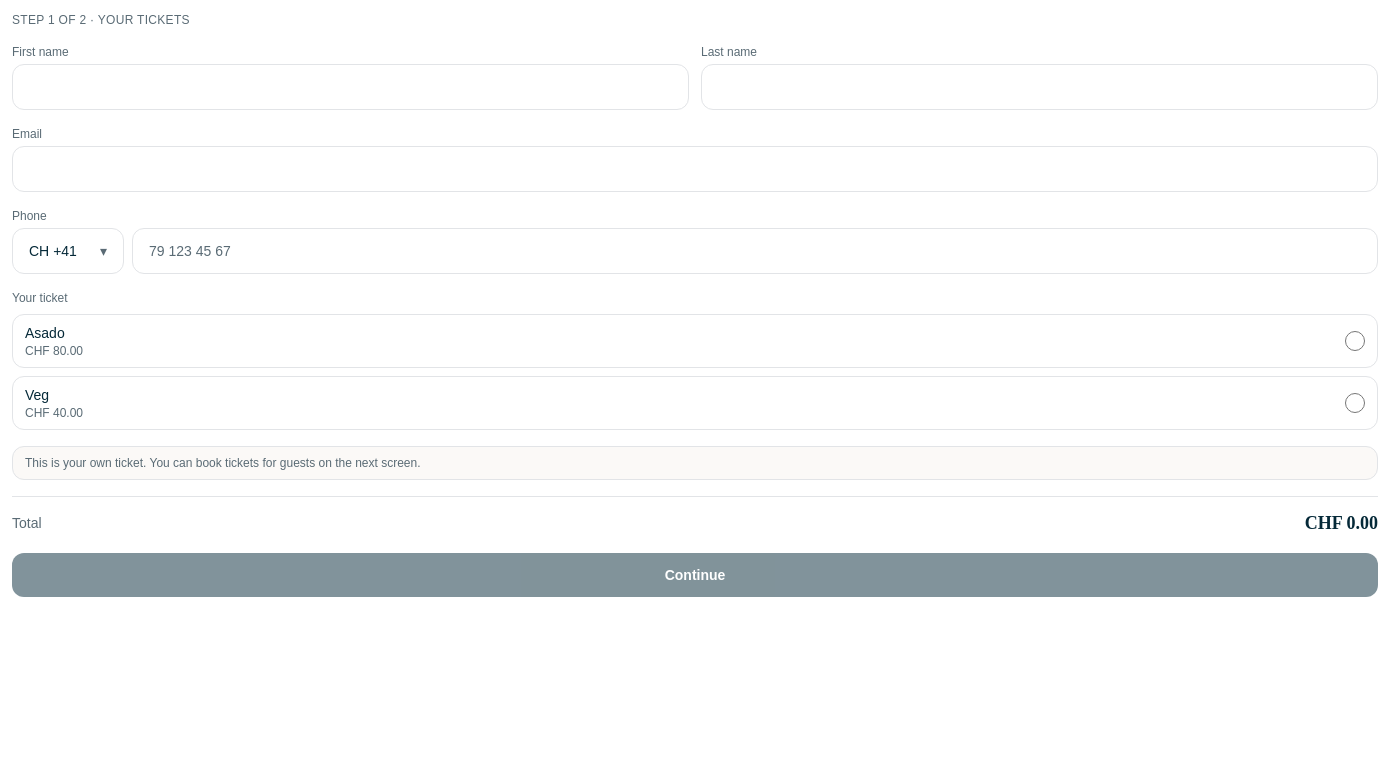
step 1 — the buyer's own tickets › blocks a guest row's first pick once the order cap is reached
The image size is (1390, 780).
Type "Frank" into the field labelled "First name".
click(350, 87); type("Frank")  # box [12,64,689,110]
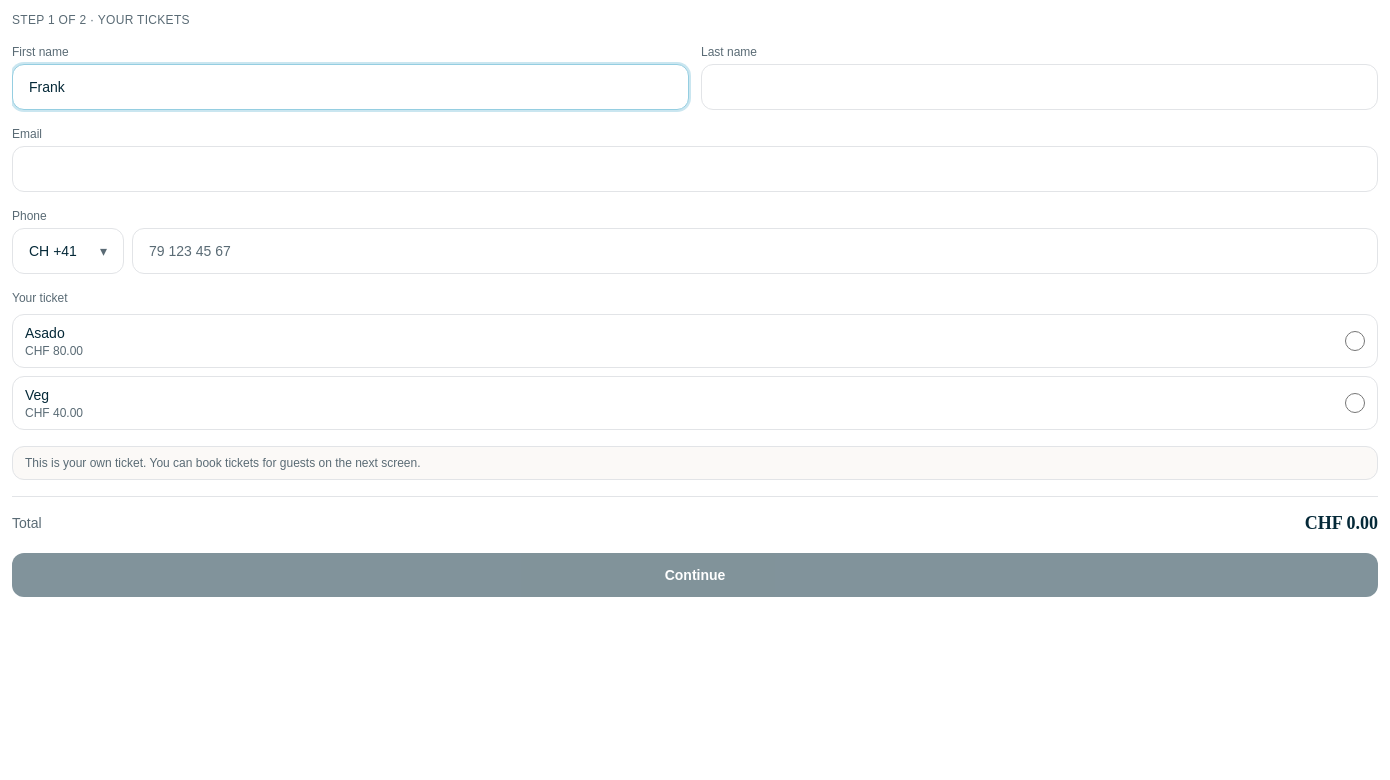
Type "Sykes" into the field labelled "Last name".
click(1040, 87); type("Sykes")  # box [701,64,1378,110]
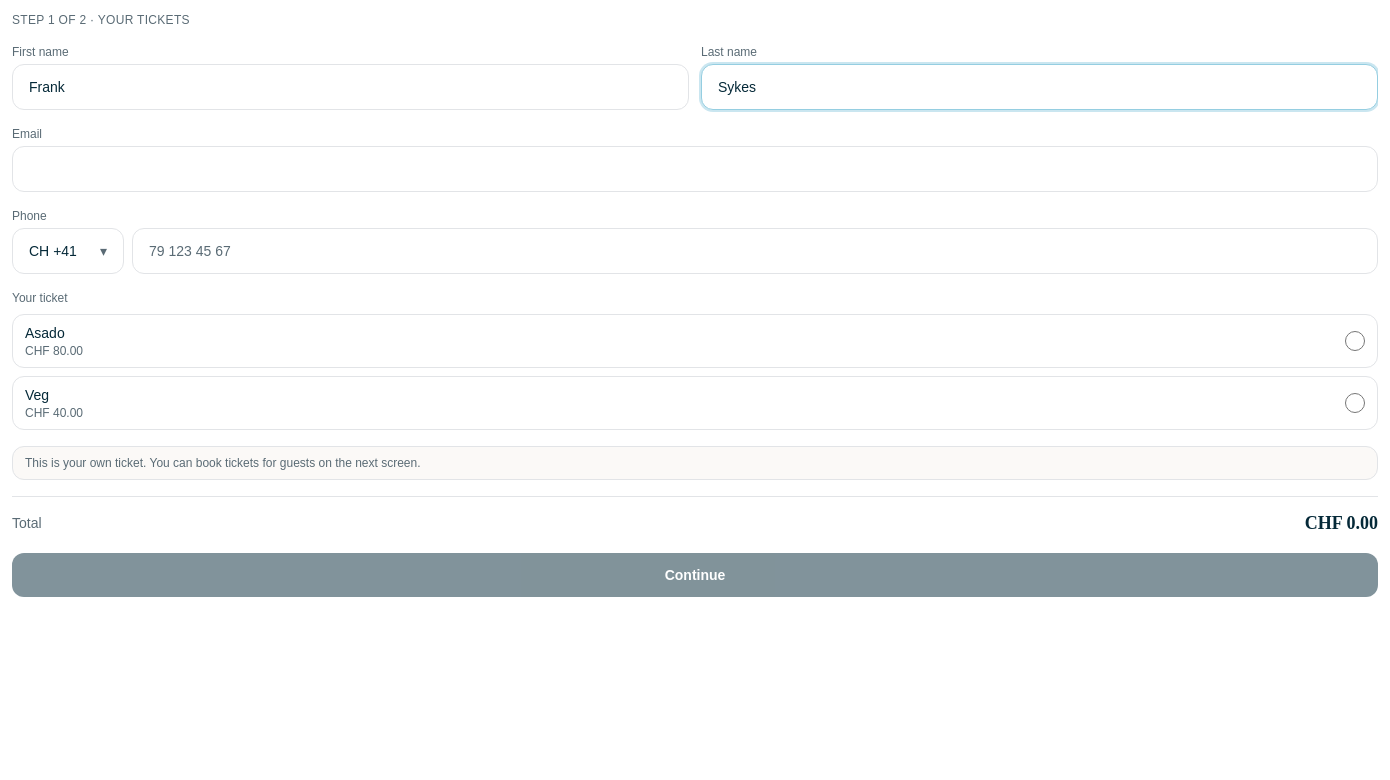
Type "frank@x.ch" into the field labelled "Email".
click(695, 169); type("frank@x.ch")  # box [12,146,1378,192]
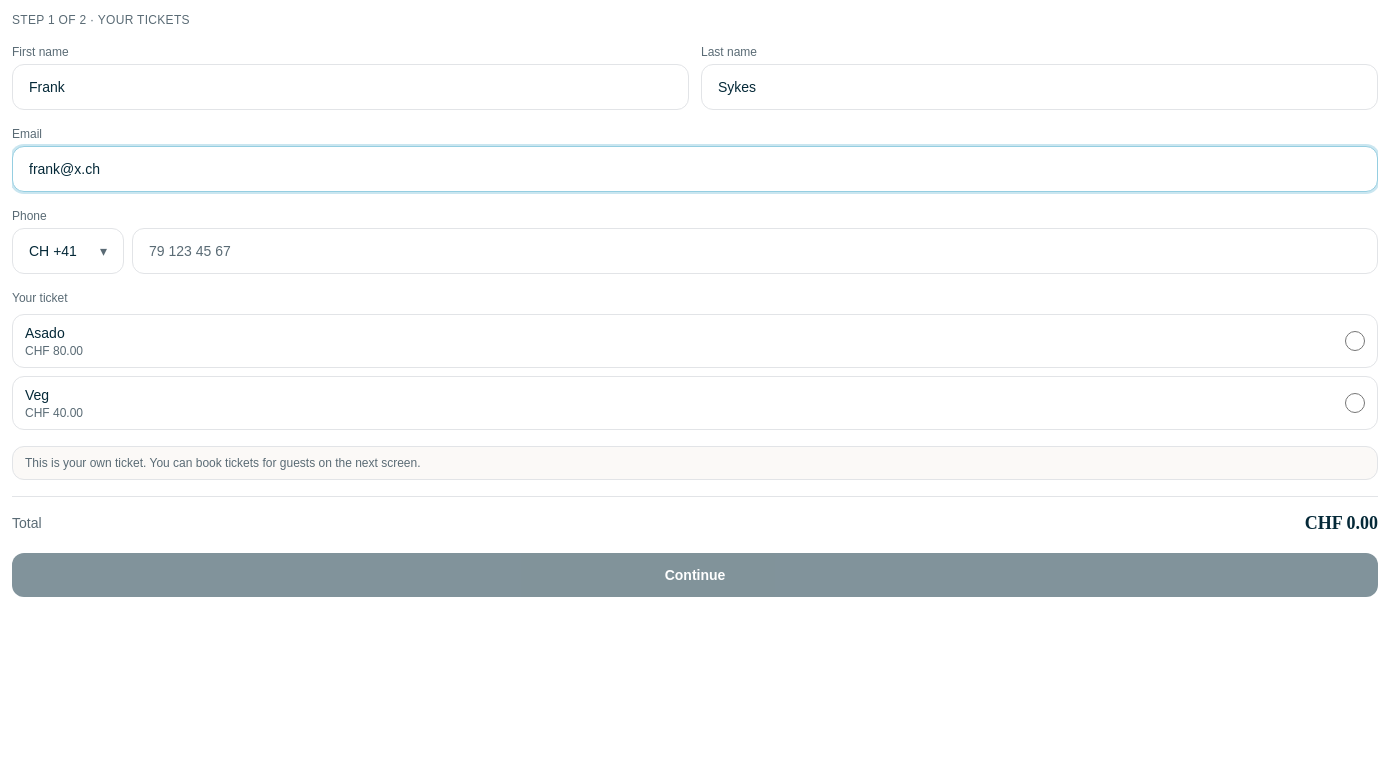
Click the radio button labelled "Asado CHF 80.00".
click(1355, 341)  # box [1345,331,1365,351]
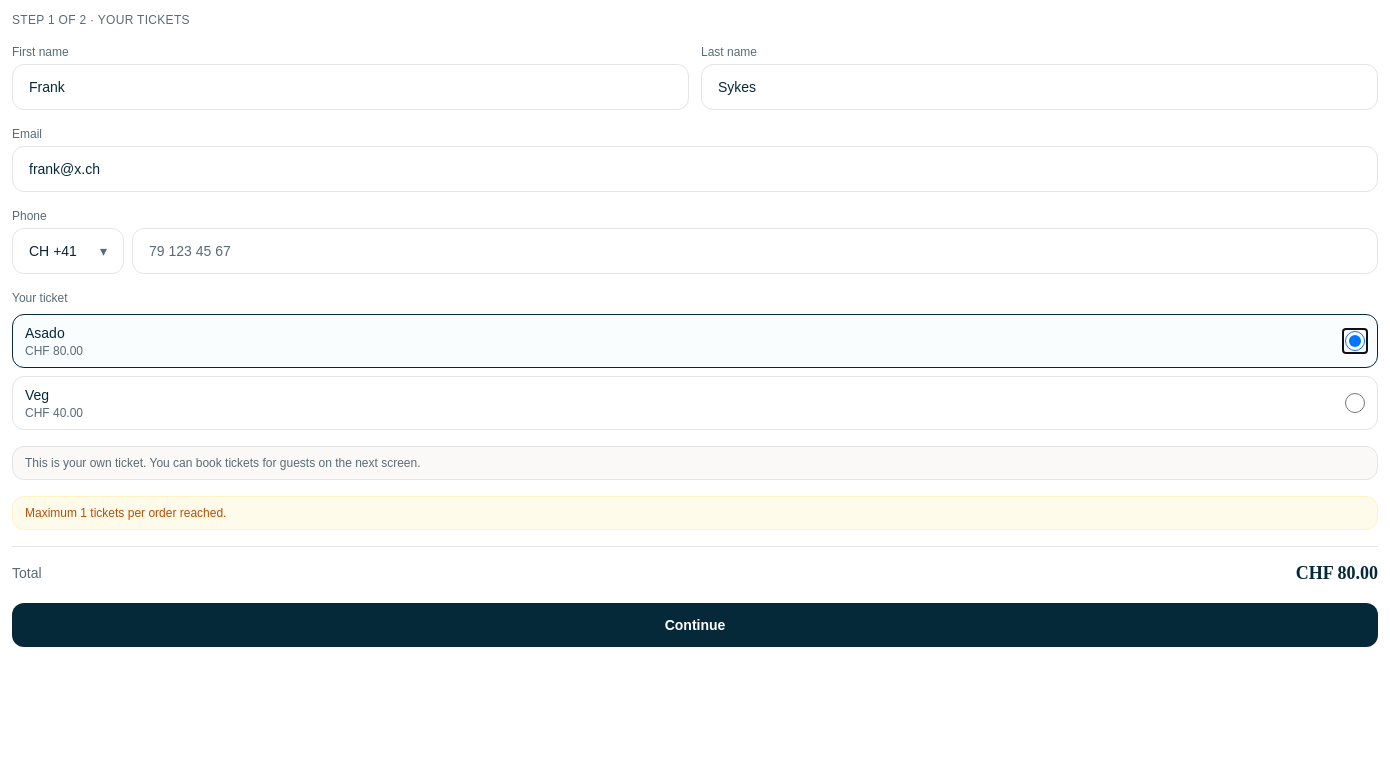
Click the button "Continue".
click(695, 625)  # box [12,603,1378,647]
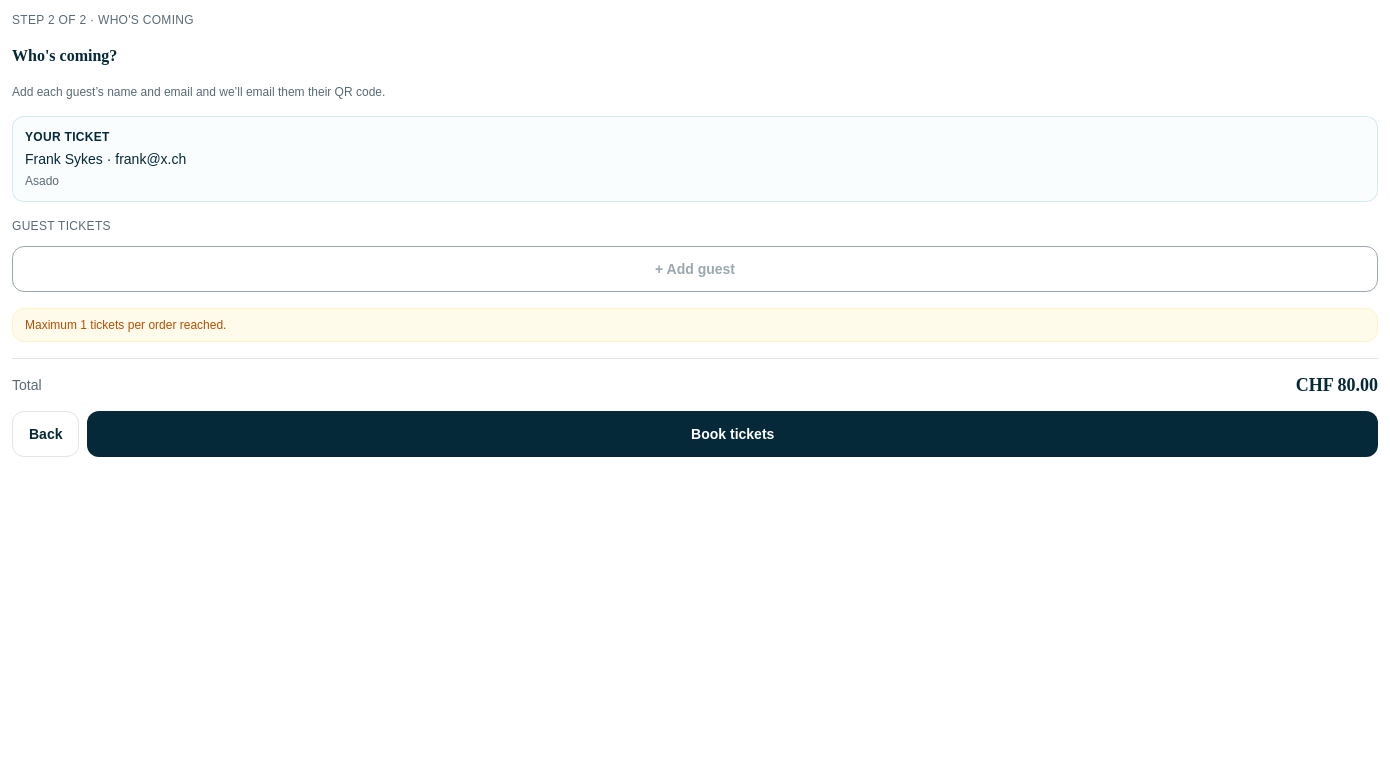
Now the button "+ Add guest" is disabled, box [12,246,1378,292]
